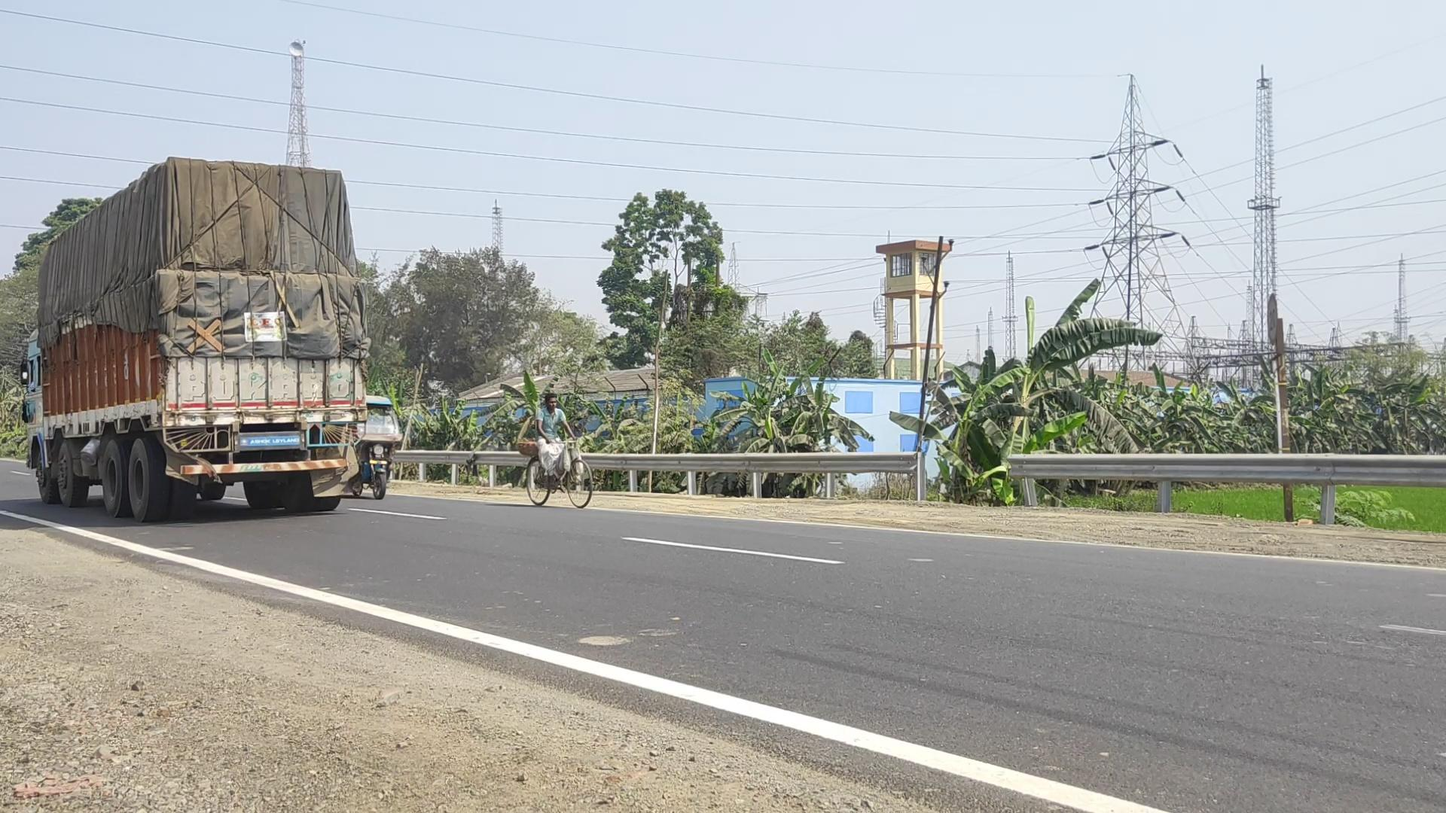Auto: (349, 394, 401, 501)
bike: (516, 393, 593, 509)
truck: (20, 157, 368, 522)
